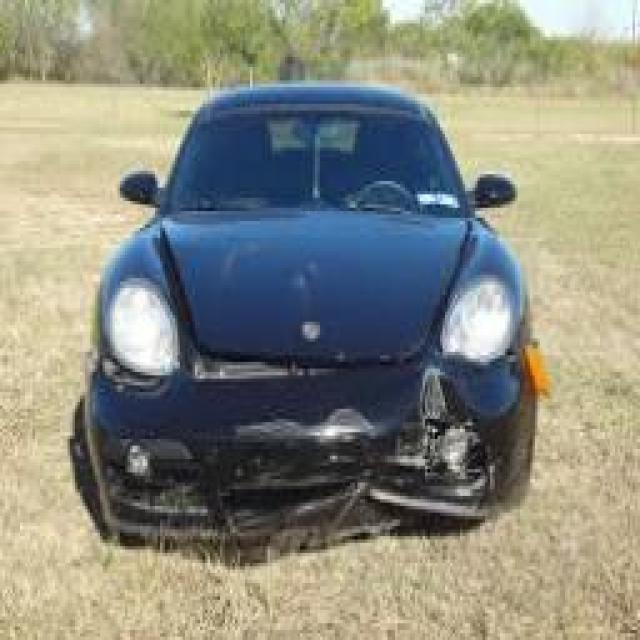rapairable: (295, 255, 328, 298), (220, 254, 251, 288)
replaceable: (104, 452, 372, 532), (410, 377, 491, 526), (212, 414, 389, 464)
